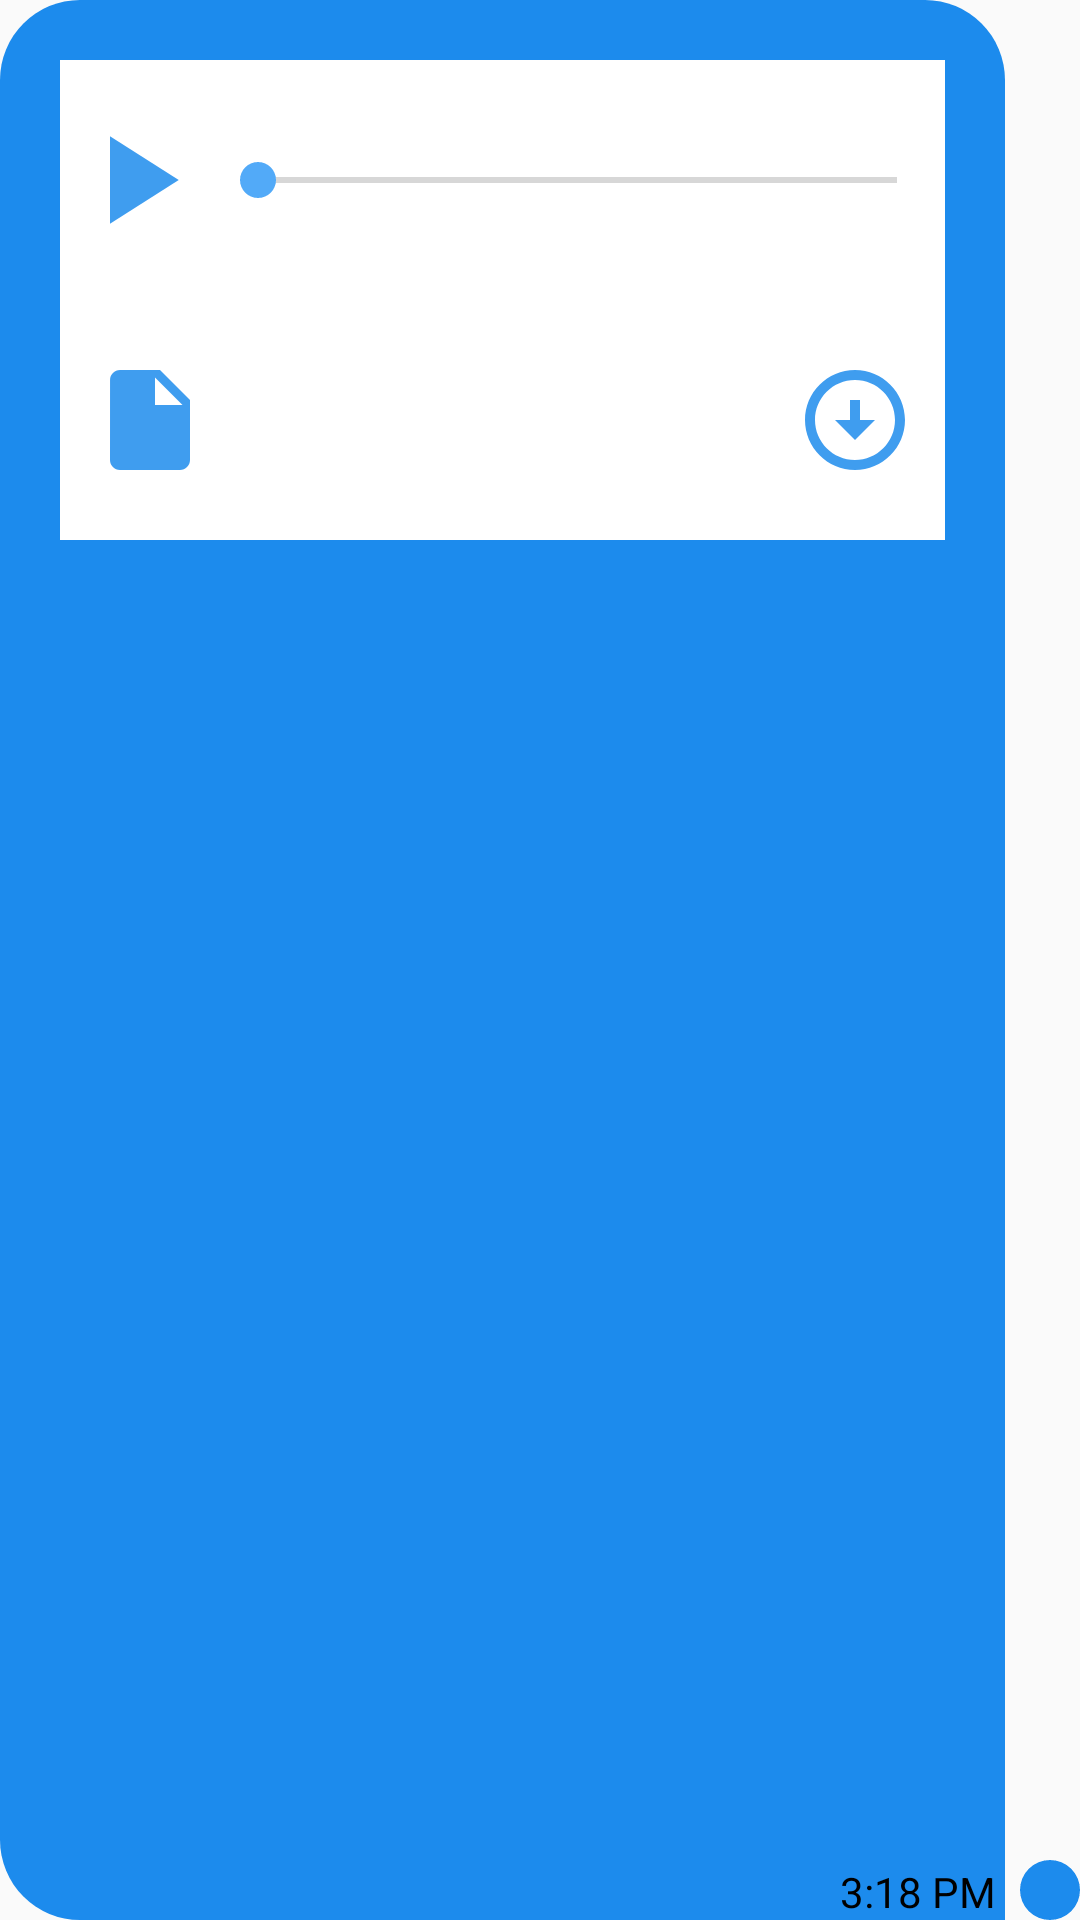

Screen size 1080px×1920px. Icon name, then its center in pixels as [x,y]:
arrow circle down: [855,420]
insert drive file: [150,420]
play arrow: [144,180]
